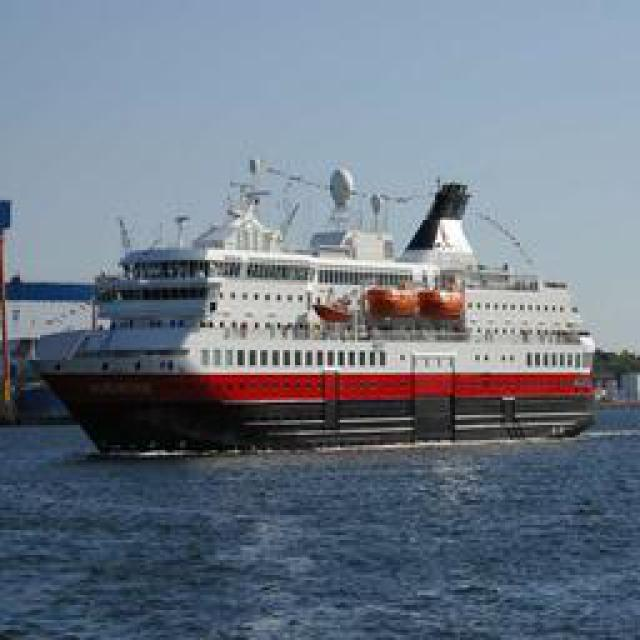Ship: (50, 169, 600, 452)
